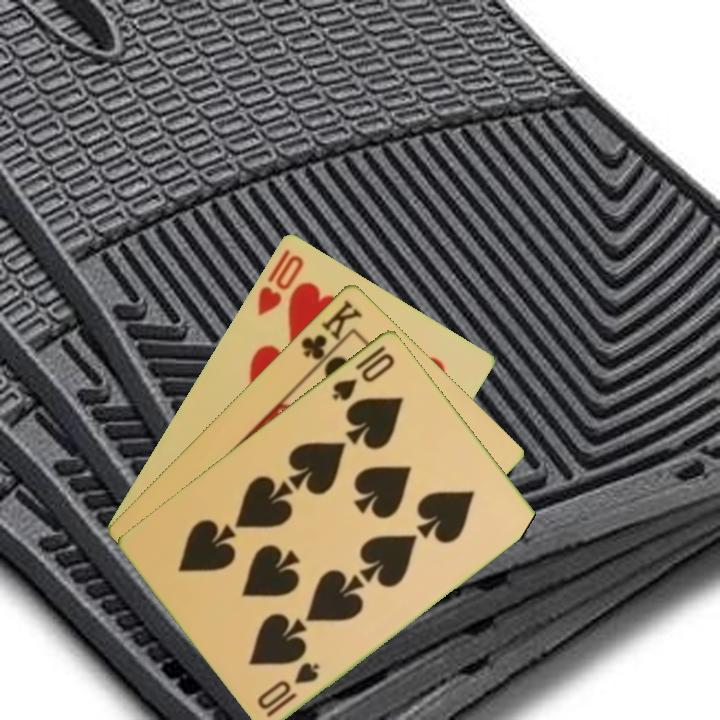10h: (253, 244, 307, 318)
10s: (253, 658, 323, 719), (328, 348, 398, 403)
Kc: (297, 295, 365, 372)
